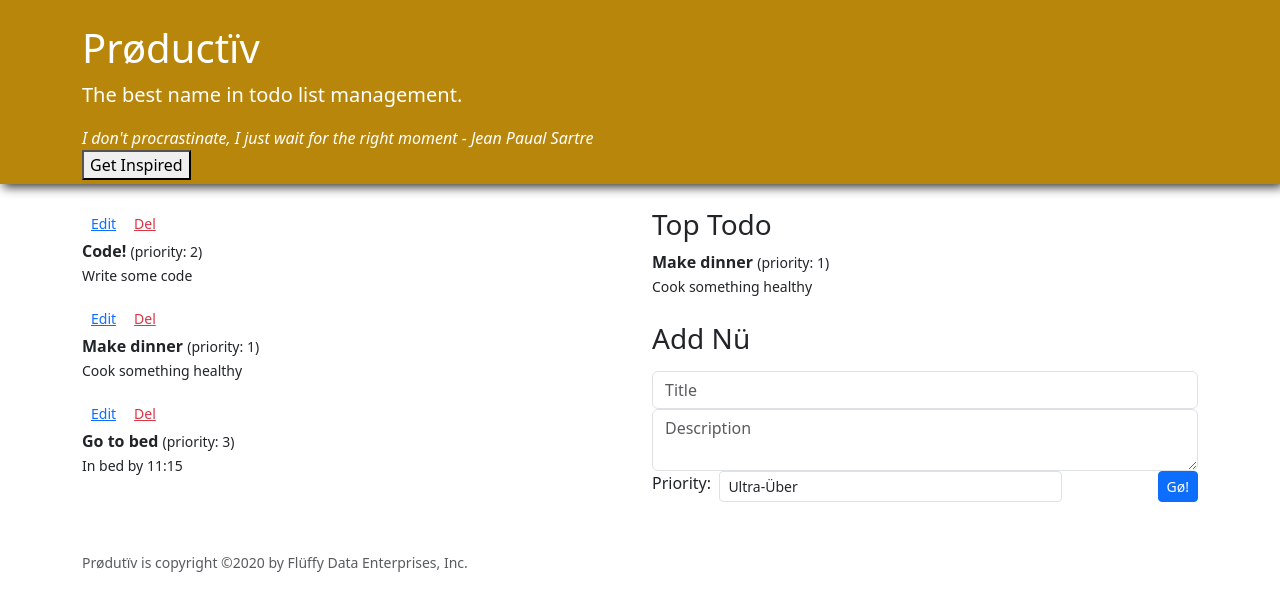
productiv app › edits todo
Expected: the text "Write some code" is shown, [82, 266, 192, 285]
Click the 1st button "Edit" at (104, 224), box [82, 208, 125, 239]
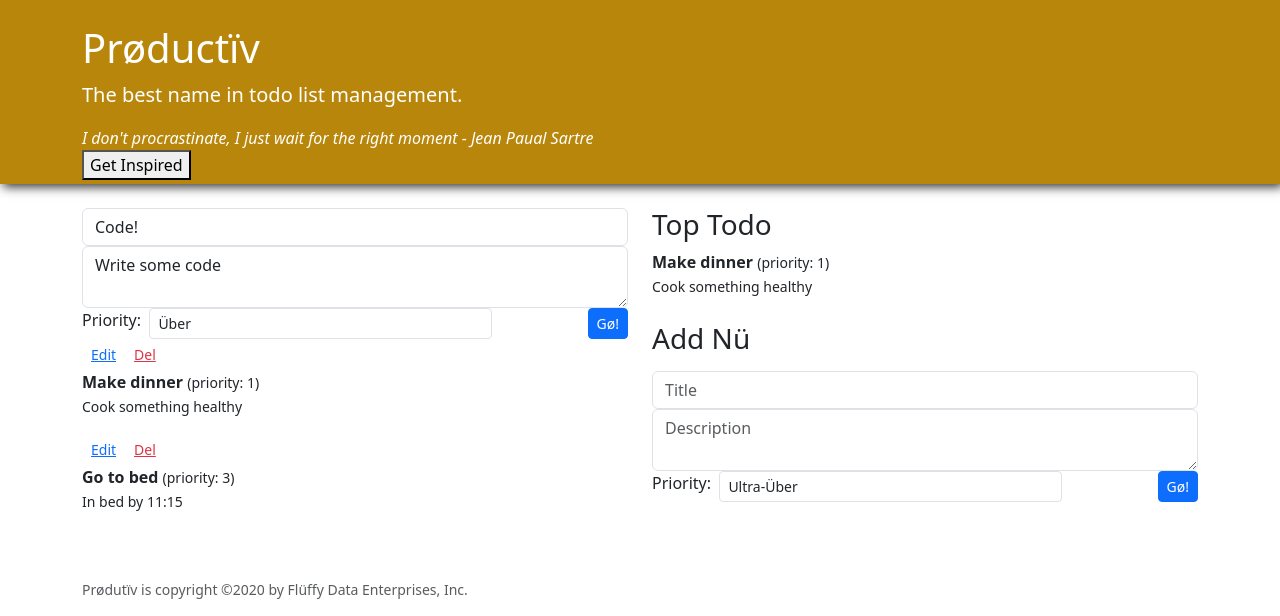
Replace the text in the field showing "Code!" with "my edited title" at (355, 227), box [82, 208, 628, 246]
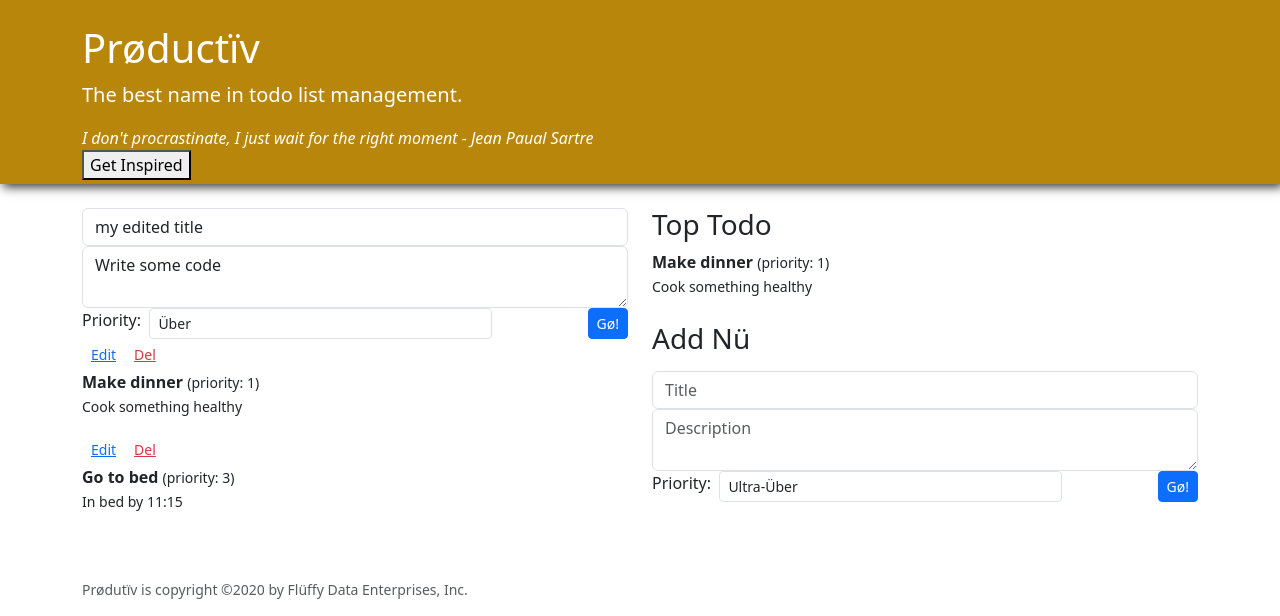
Replace the text in the text box showing "Write some code" with "my edited description" at (355, 277), box [82, 246, 628, 308]
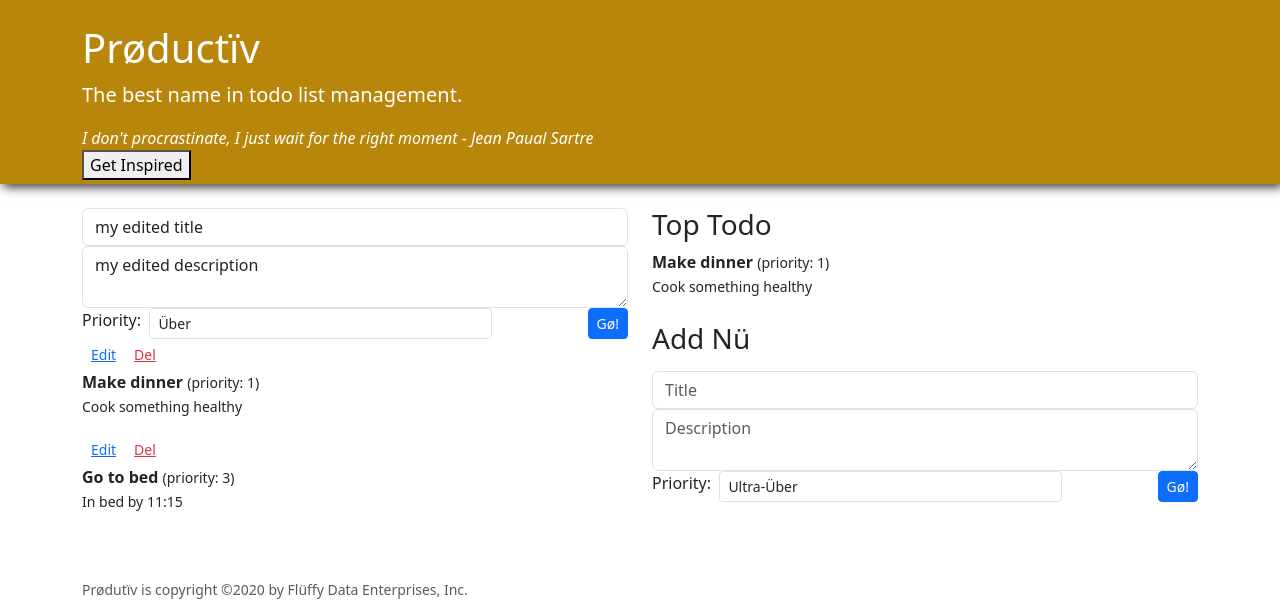
Click the 1st button "Gø!" at (608, 324), box [588, 308, 628, 339]
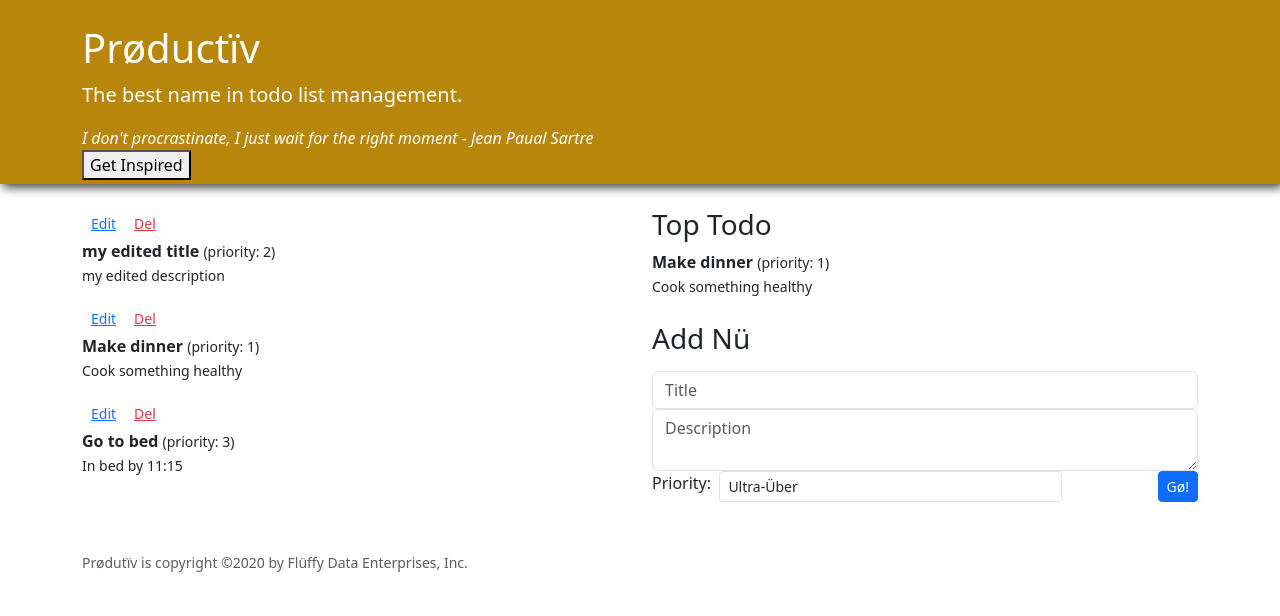
Expected: the text "Write some code" is not shown
Result: the text "my edited title" is shown at [82, 240, 199, 262]
Result: the text "my edited description" is shown at [82, 266, 225, 285]
